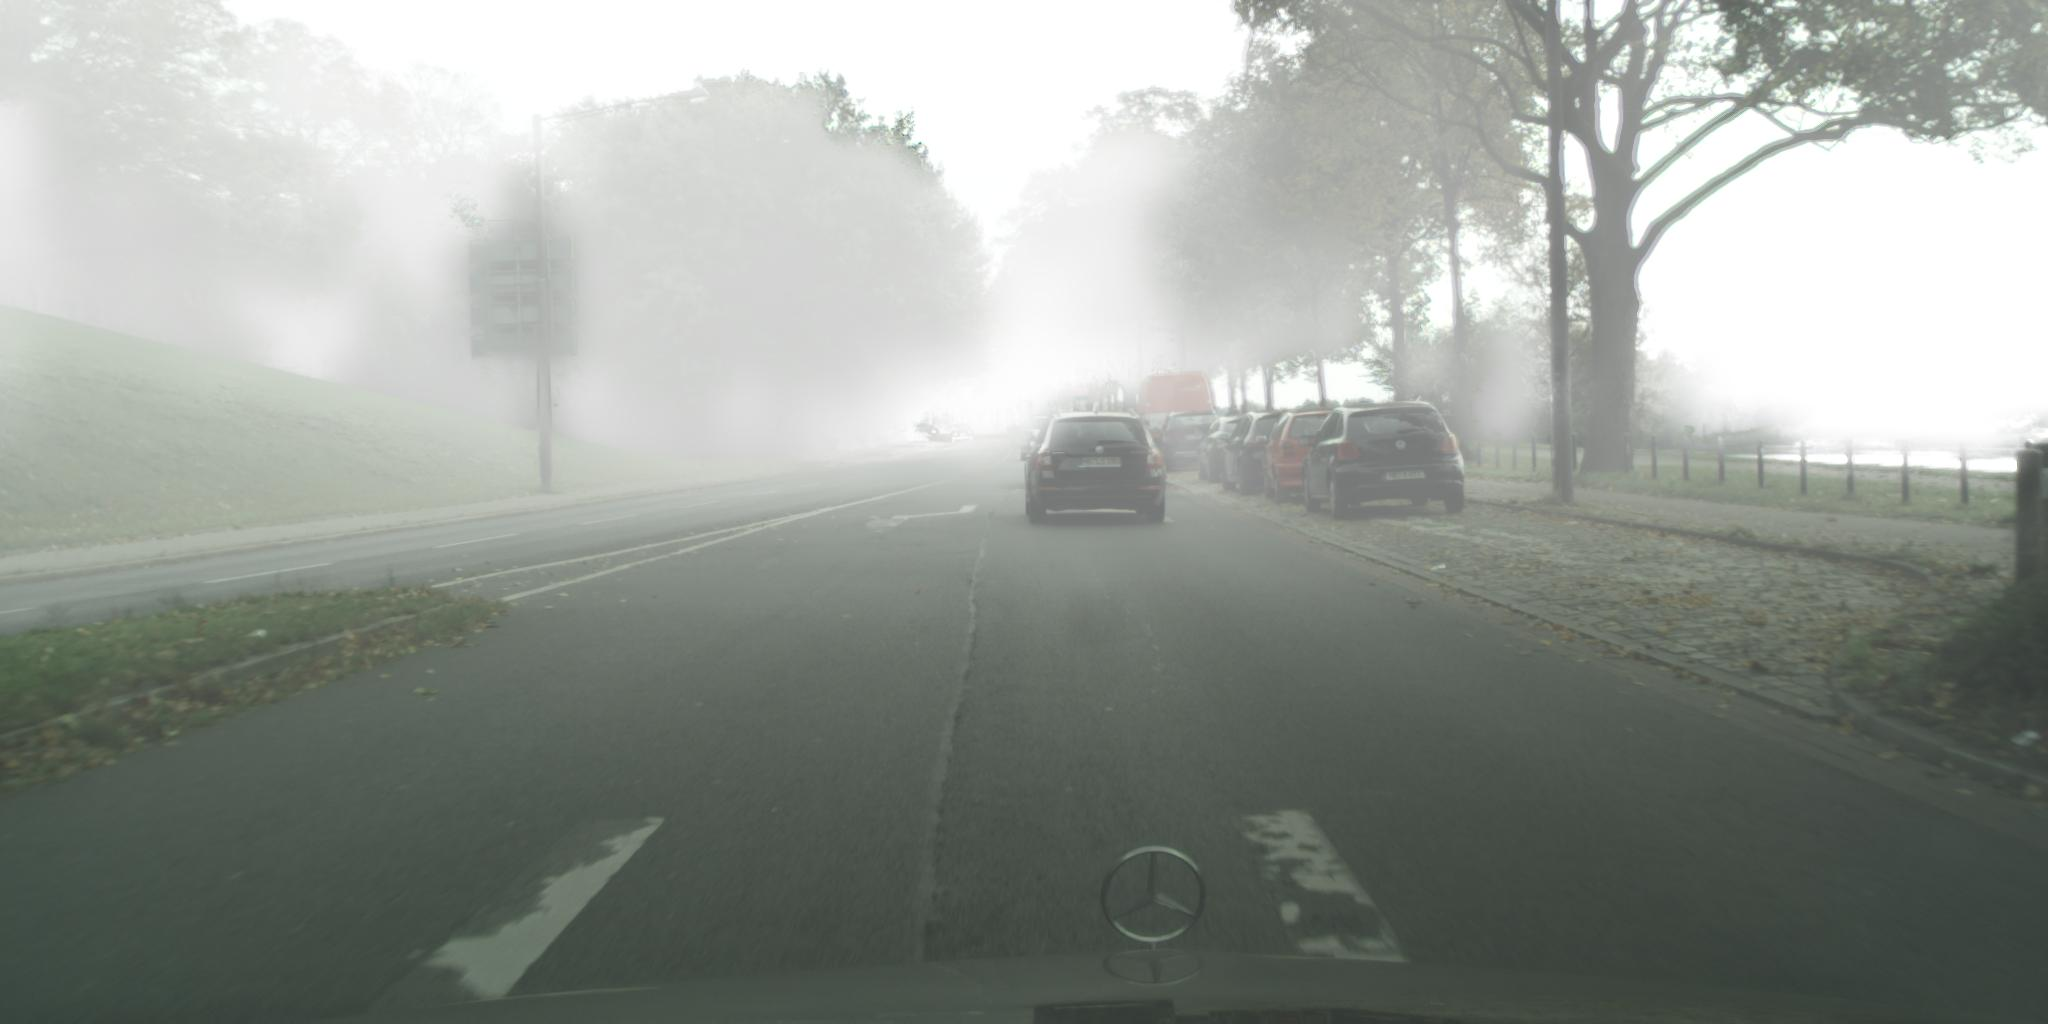car: (1300, 400, 1467, 519), (1015, 410, 1168, 525), (1256, 409, 1341, 505), (1220, 411, 1300, 496), (1142, 374, 1220, 457), (1156, 409, 1229, 472), (1196, 417, 1253, 485), (1020, 415, 1074, 462), (952, 424, 974, 443), (913, 423, 940, 438)
